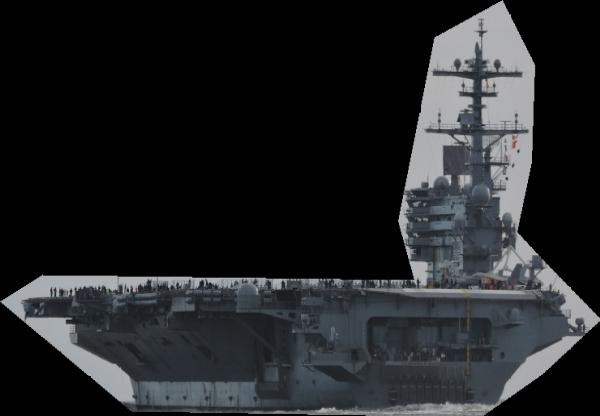Aircraft Carrier: (0, 0, 600, 416)
